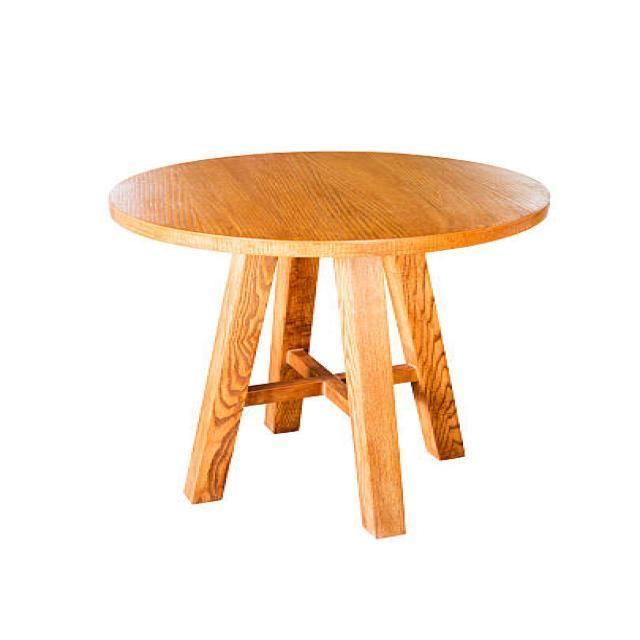table: (106, 150, 552, 538)
